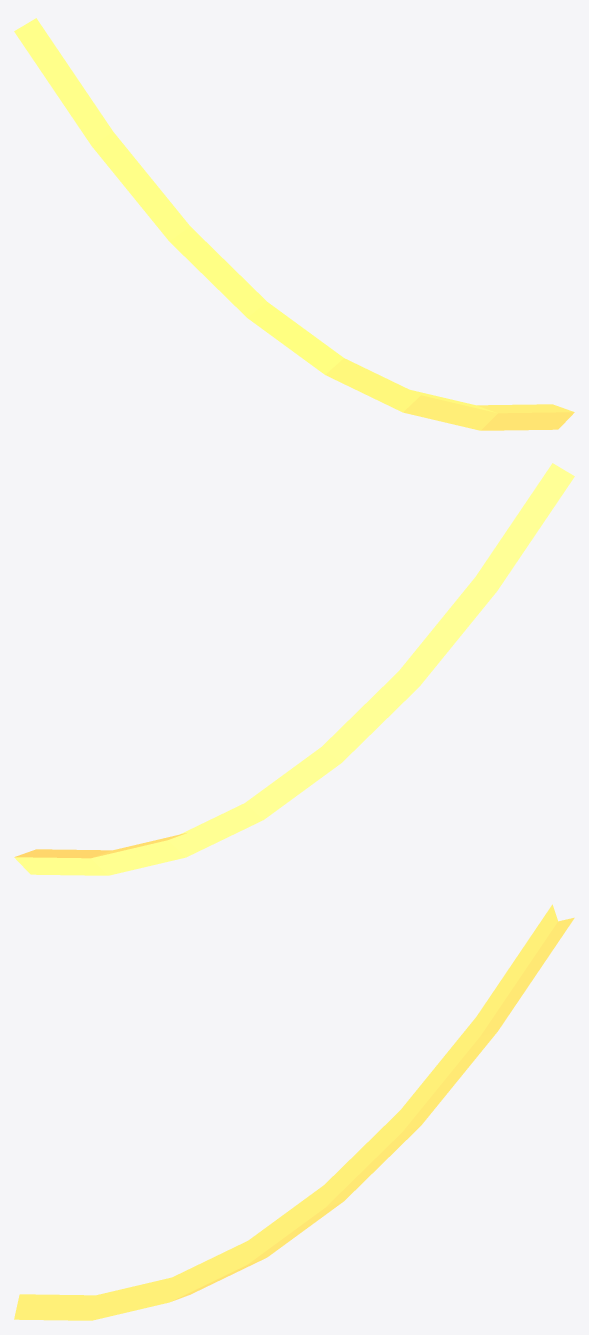
The model's file is rope_sag.glb.
3 renders of one model, top to bottom at view 1: azimuth 30°, elevation 25°; view 2: azimuth 150°, elevation 25°; view 3: azimuth 330°, elevation 25°, orthographic.
Parts seen in each view (by area): view 1: rope_sag; view 2: rope_sag; view 3: rope_sag.
Boxes of the visible parts, x1=… form: rope_sag: x1=14, y1=18, x2=574, y2=430; rope_sag: x1=14, y1=463, x2=574, y2=875; rope_sag: x1=14, y1=904, x2=574, y2=1320.
Bounding box in the file's own units: 0.021 × 0.1406 × 1.01.
